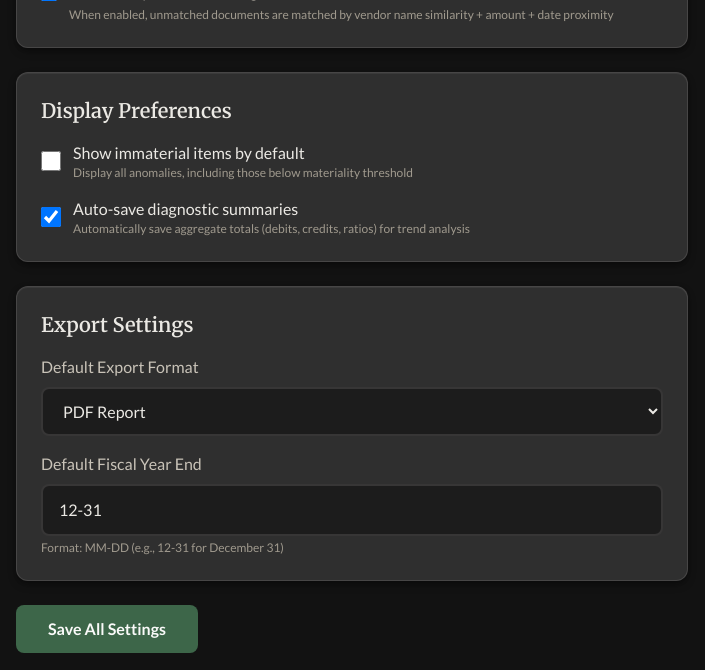
Test case: PracticeSettingsPage › shows Saving... text while submitting
(page scrolled)
Click the button "Save All Settings": (107, 629) [16,605,198,653]
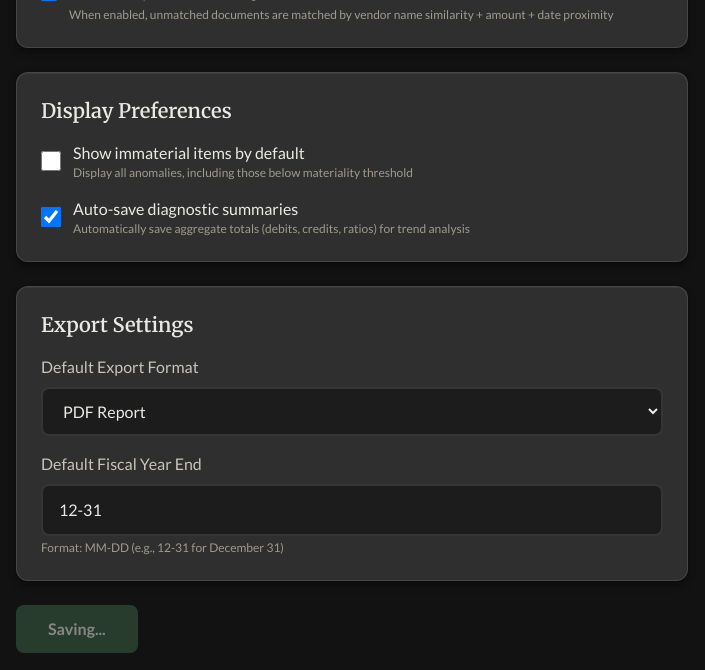
Now the button "Saving..." is shown, box [16,605,138,653]
